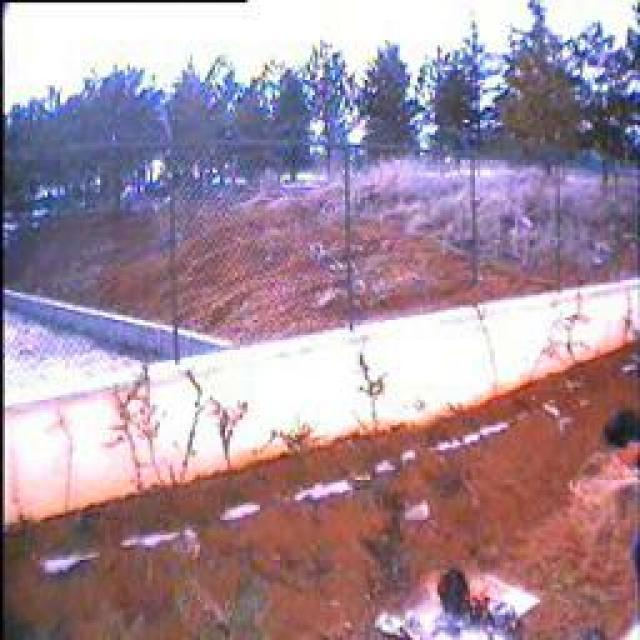Fire: (427, 568, 501, 632)
